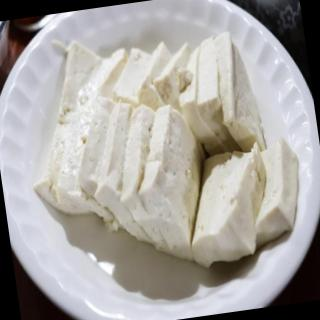Tahu: (32, 9, 311, 285)
